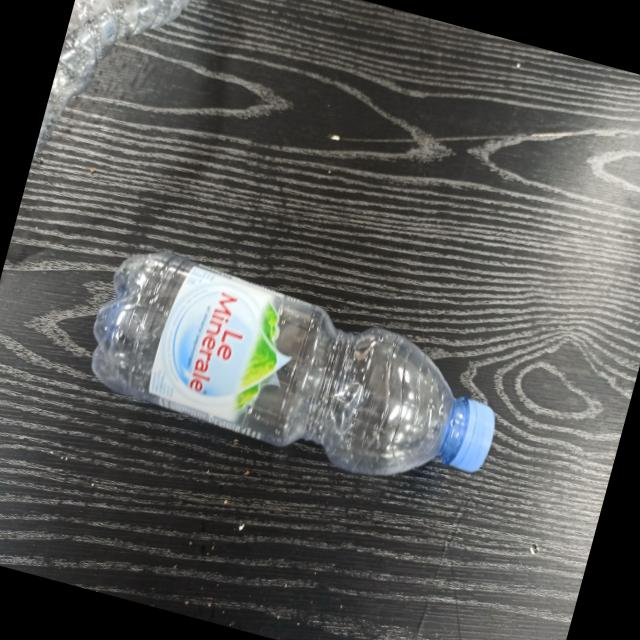BotolPlastik: (72, 234, 519, 507)
